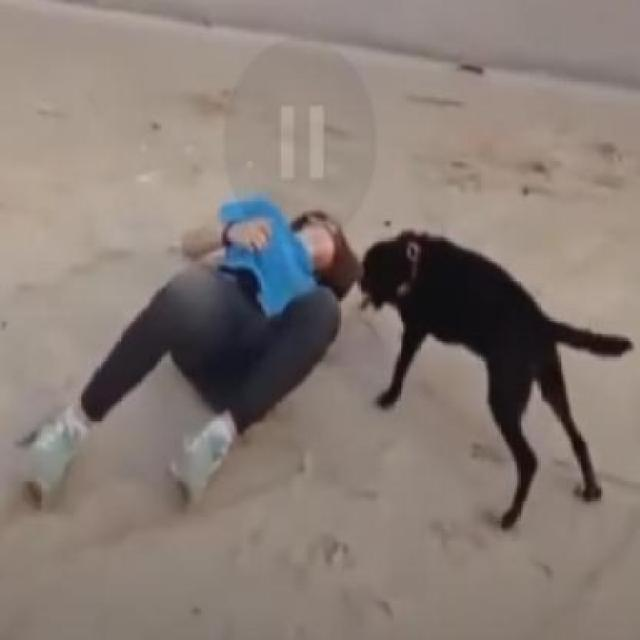fall: (20, 206, 352, 526)
